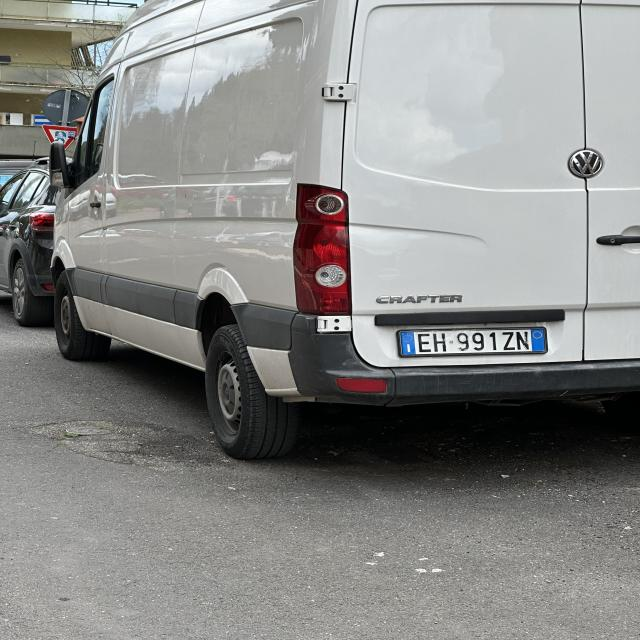number_plate: (398, 328, 547, 356)
